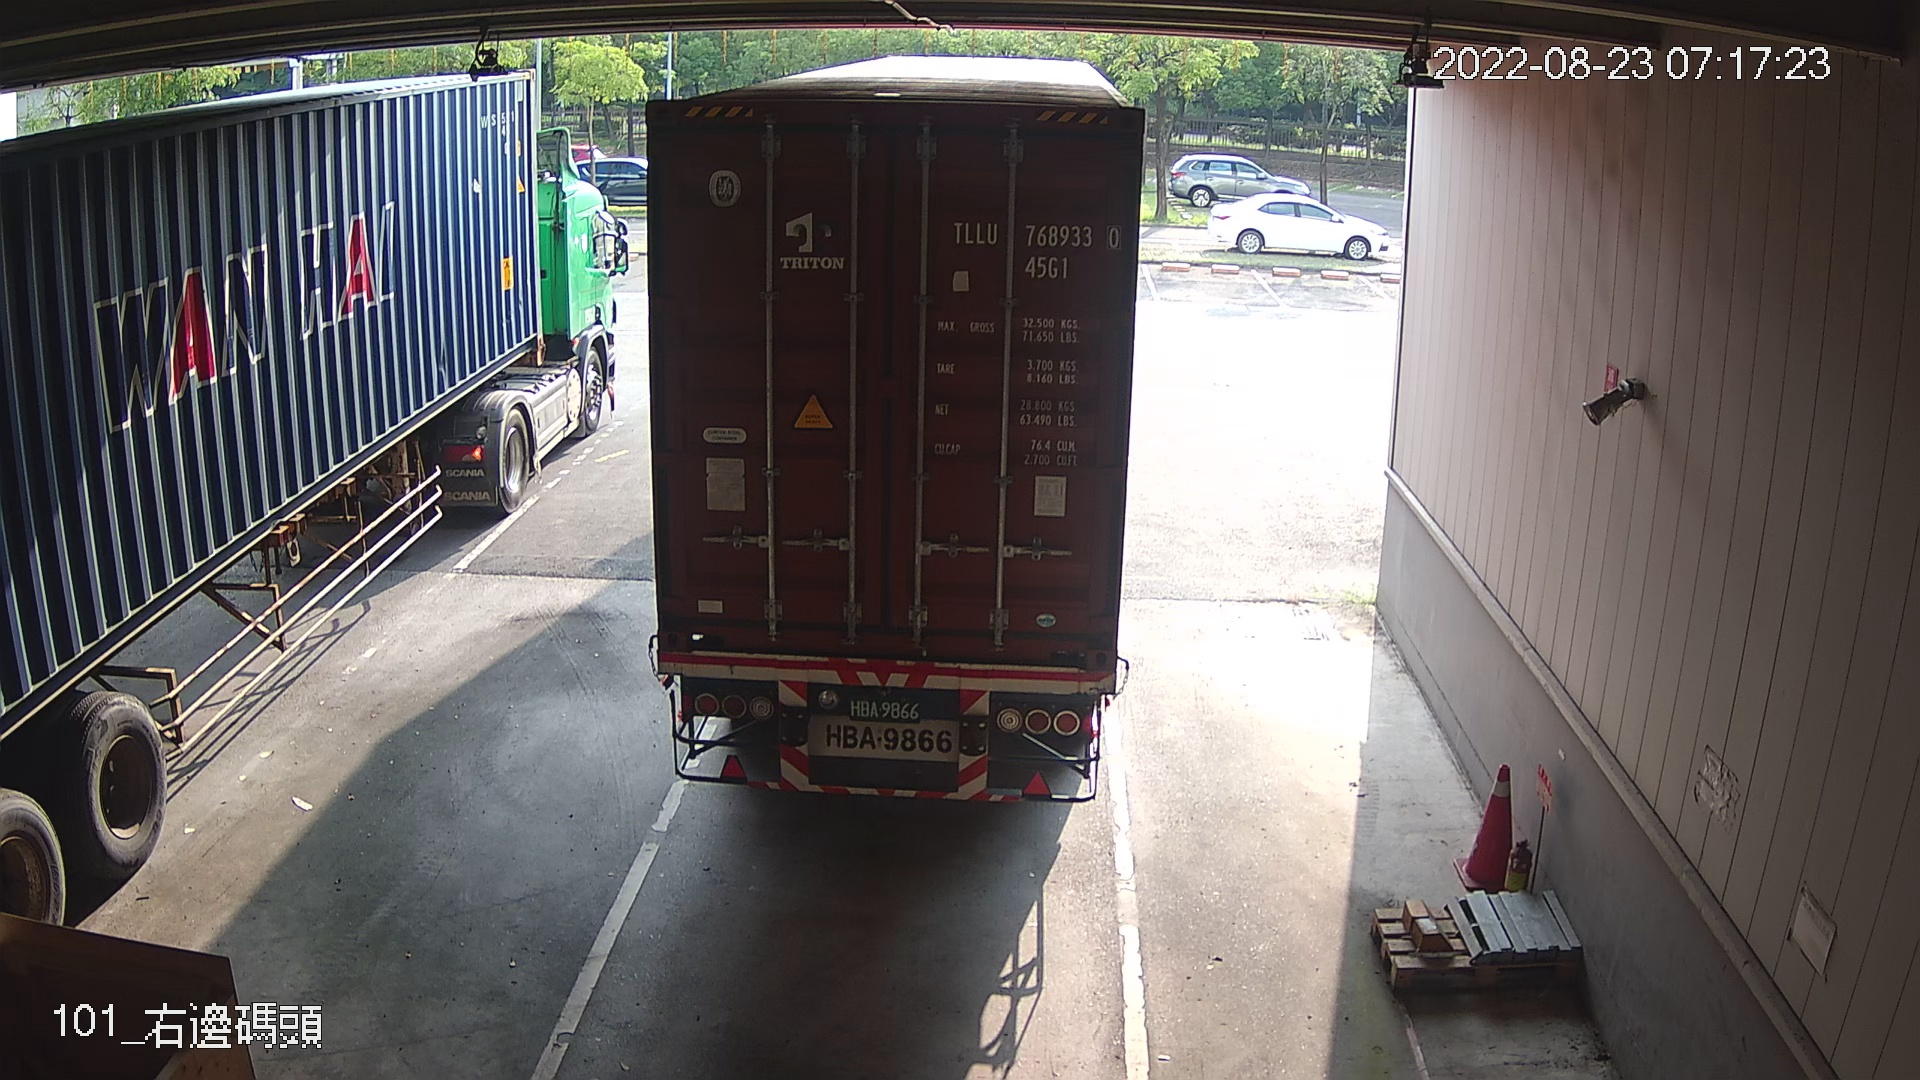container: (944, 208, 1126, 284)
